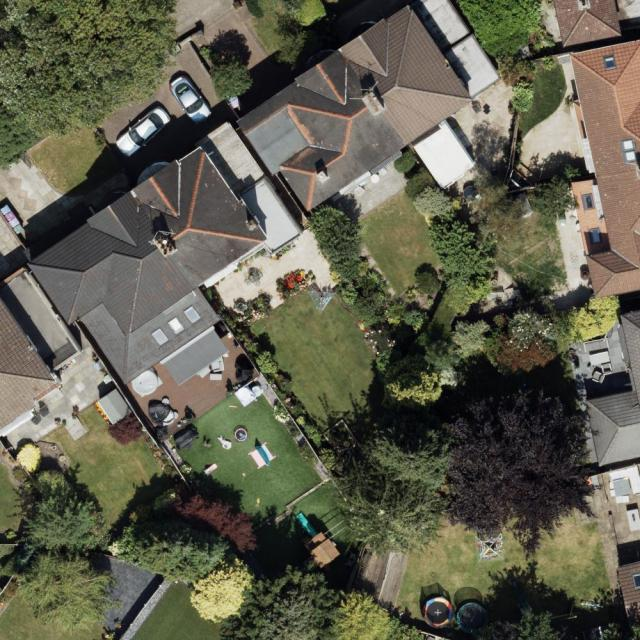roof: (22, 123, 305, 382), (237, 0, 504, 219), (571, 38, 640, 300), (0, 294, 60, 435), (588, 307, 640, 469), (552, 0, 621, 46), (617, 561, 640, 630)
skylight: (619, 137, 639, 163), (164, 314, 187, 335), (183, 306, 201, 325), (586, 226, 604, 245), (151, 329, 169, 345), (581, 192, 595, 211), (600, 56, 615, 69), (632, 574, 640, 590)
